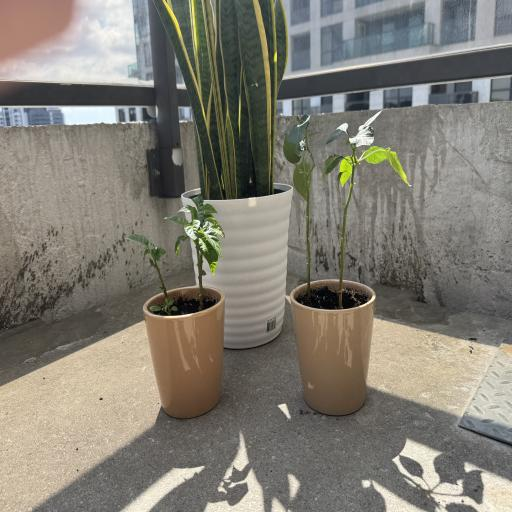Plant Pot: (181, 184, 293, 346), (290, 278, 377, 416), (144, 285, 225, 417)
